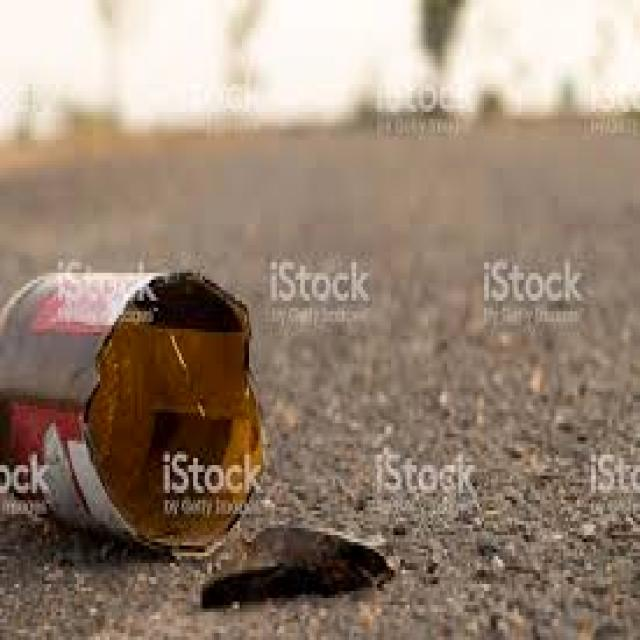Glass: (0, 268, 261, 553)
